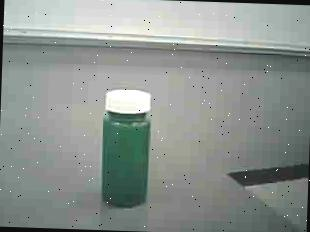Bottle C: (86, 78, 174, 220)
